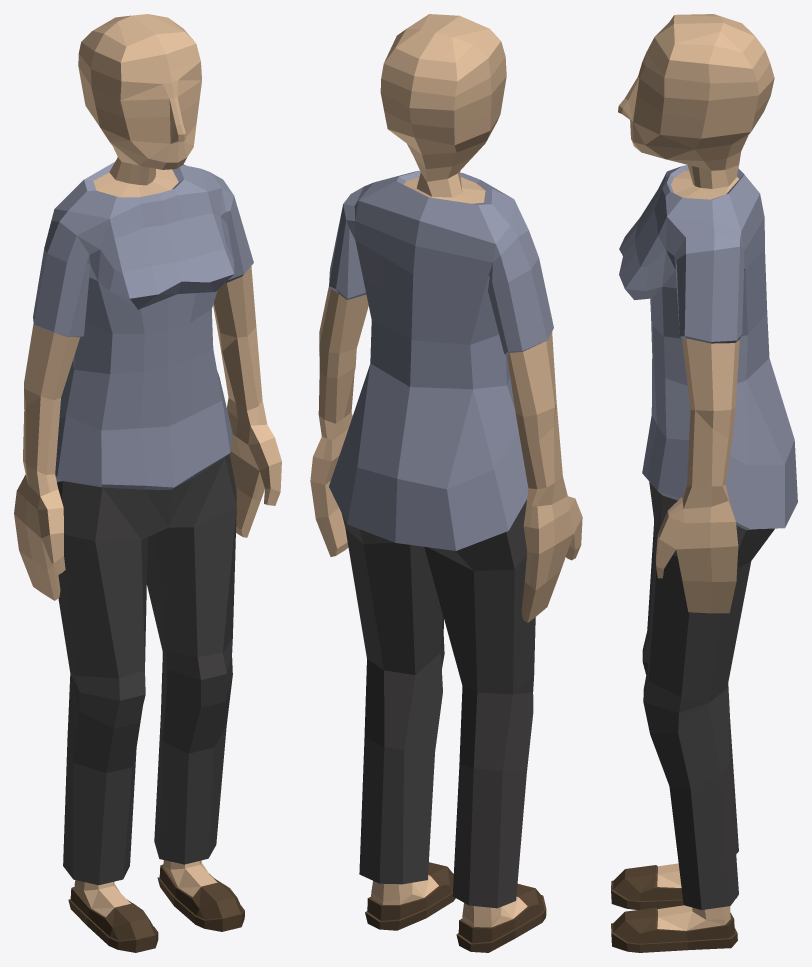
The model's file is Female_Standing.glb.
3 renders of one model, left to right at view 1: azimuth 30°, elevation 25°; view 2: azimuth 150°, elevation 25°; view 3: azimuth 270°, elevation 25°, orthographic. The views are drawn at different scales.
Parts seen in each view (by area): view 1: Female_Standing; view 2: Female_Standing; view 3: Female_Standing.
Boxes of the visible parts, x1,y1,x2,y2 form: Female_Standing: (14,14,281,952); Female_Standing: (310,14,582,952); Female_Standing: (611,14,797,952).
Size of the model in its own units: 1.01 by 3.7 by 0.6994.
